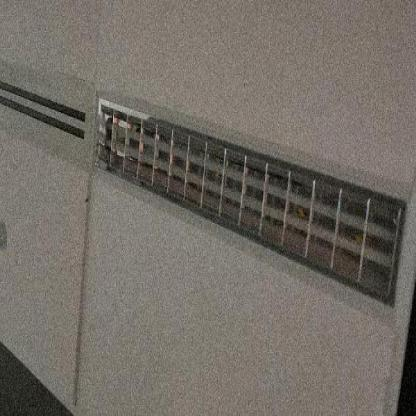light_off: (88, 84, 409, 312)
